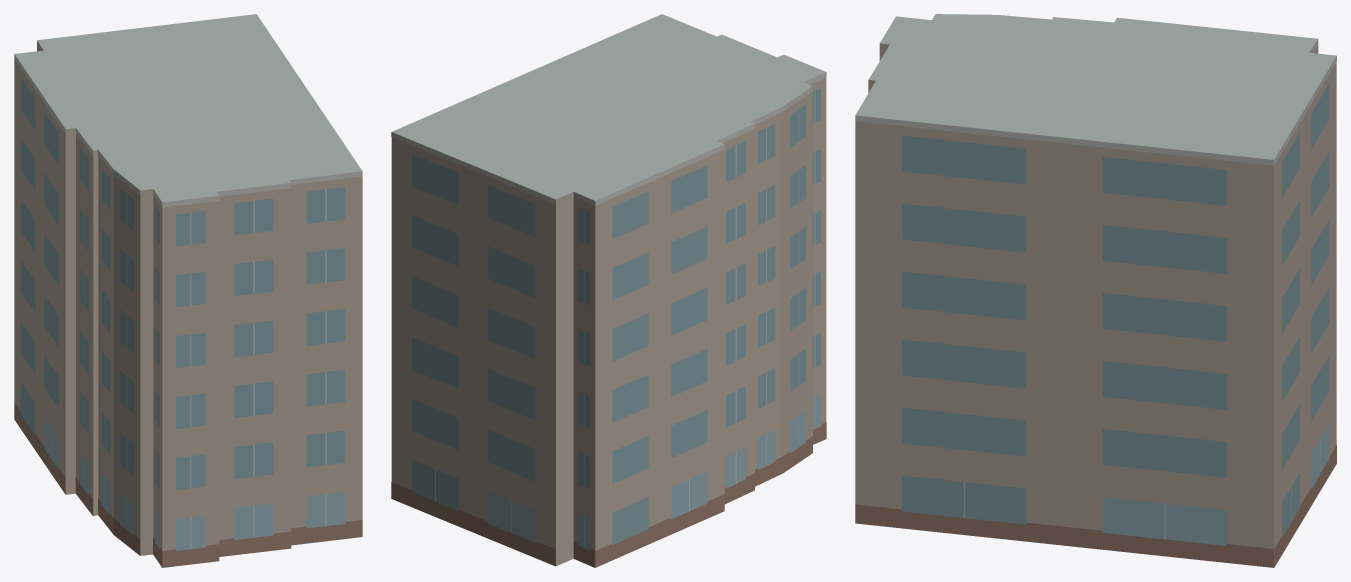
File: survey-upis-32754612.glb
The picture shows the model from 3 angles, left to right: view 1: azimuth 30°, elevation 25°; view 2: azimuth 150°, elevation 25°; view 3: azimuth 270°, elevation 25°; orthographic projection. The views are drawn at different scales.
Visible parts, largest first — view 1: survey-upis-32754612.tmp; view 2: survey-upis-32754612.tmp; view 3: survey-upis-32754612.tmp.
Boxes of the visible parts, x1,y1,x2,y2 form: survey-upis-32754612.tmp: (14,14,362,567); survey-upis-32754612.tmp: (391,14,826,567); survey-upis-32754612.tmp: (855,14,1336,567).
Bounding box in the file's own units: 13.21 × 17.2 × 18.41.
